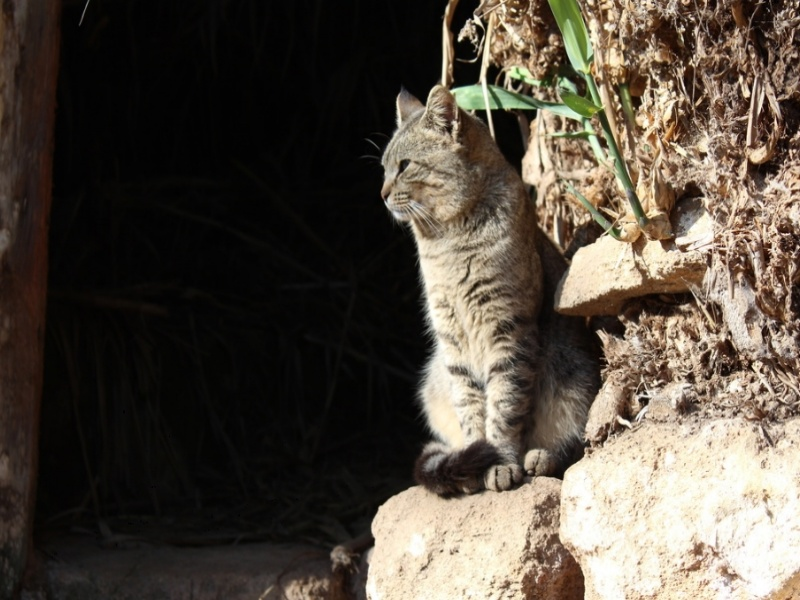cat: (375, 82, 603, 504)
